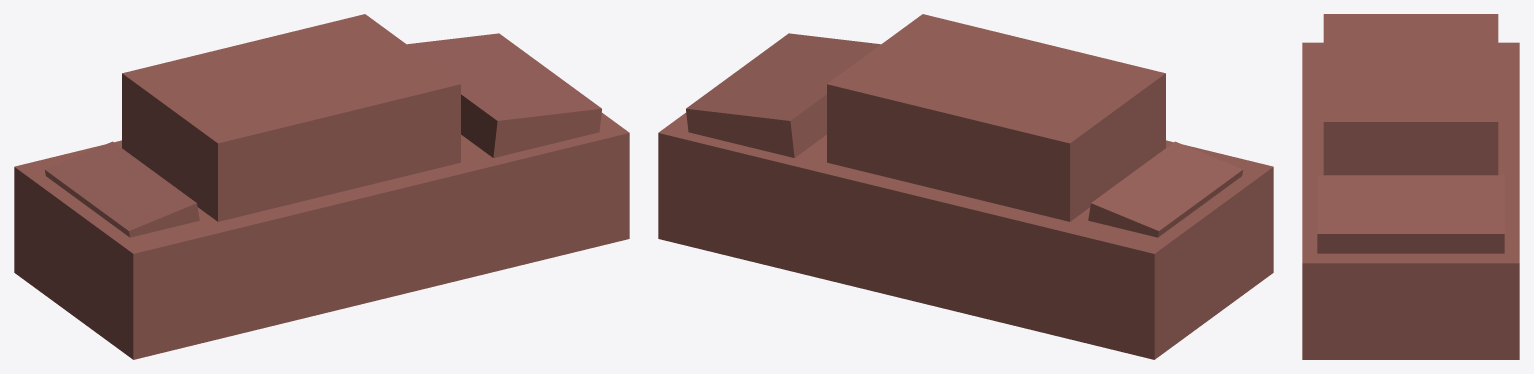
File: wrecked_car.gltf
3 views of the same model, side by side, from view 1: azimuth 30°, elevation 25°; view 2: azimuth 150°, elevation 25°; view 3: azimuth 270°, elevation 25° (orthographic). The views are drawn at different scales.
Size of the model in its own units: 2.45 by 0.87 by 1.02.
